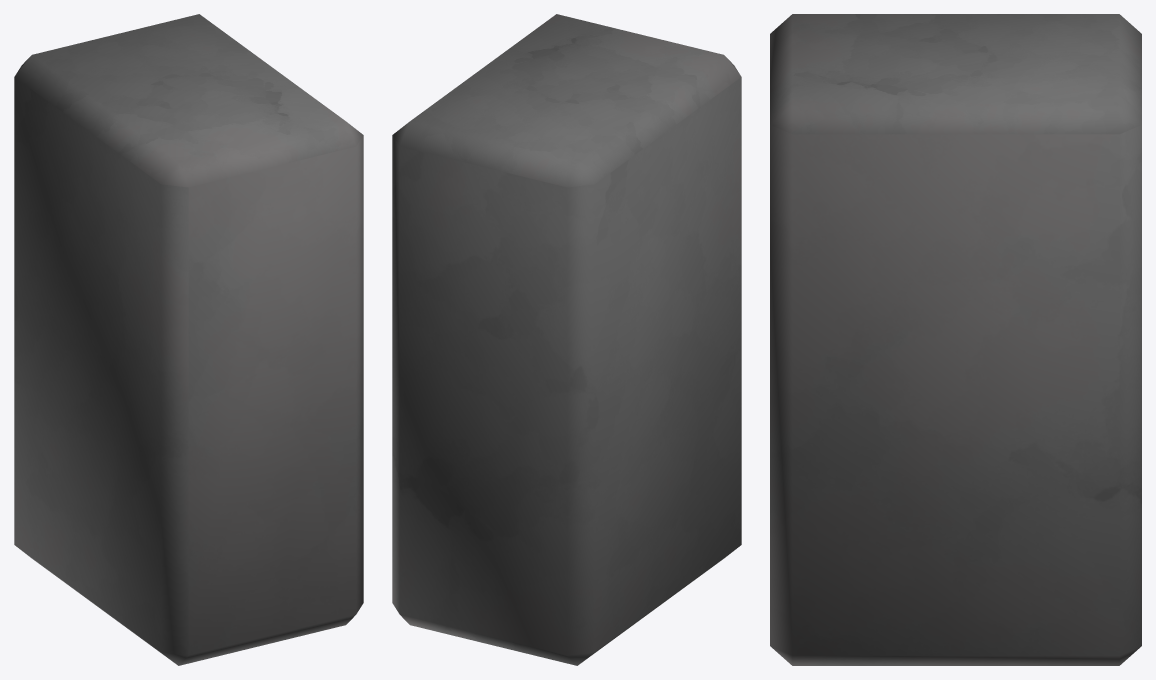
File: Balken_Stein.fbx
3 views of the same model, side by side, from view 1: azimuth 30°, elevation 25°; view 2: azimuth 150°, elevation 25°; view 3: azimuth 270°, elevation 25° (orthographic). The views are drawn at different scales.
Parts seen in each view (by area): view 1: Balken_Stein; view 2: Balken_Stein; view 3: Balken_Stein.
Boxes of the visible parts, box(x1,y1,x2,y2) form: Balken_Stein: box(14, 14, 363, 665); Balken_Stein: box(392, 14, 741, 665); Balken_Stein: box(770, 14, 1141, 665).
Bounding box in the file's own units: 0.35 × 0.8325 × 0.5.
